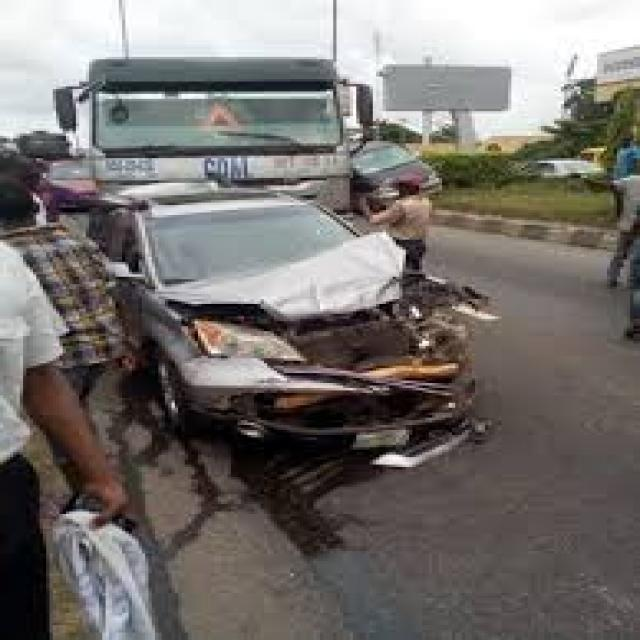accident: (101, 172, 518, 473)
